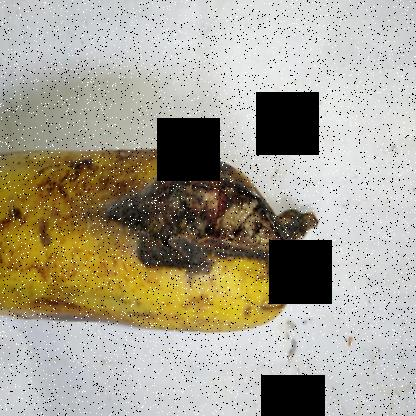ripe: (0, 142, 324, 345)
rotten: (116, 152, 308, 302)
